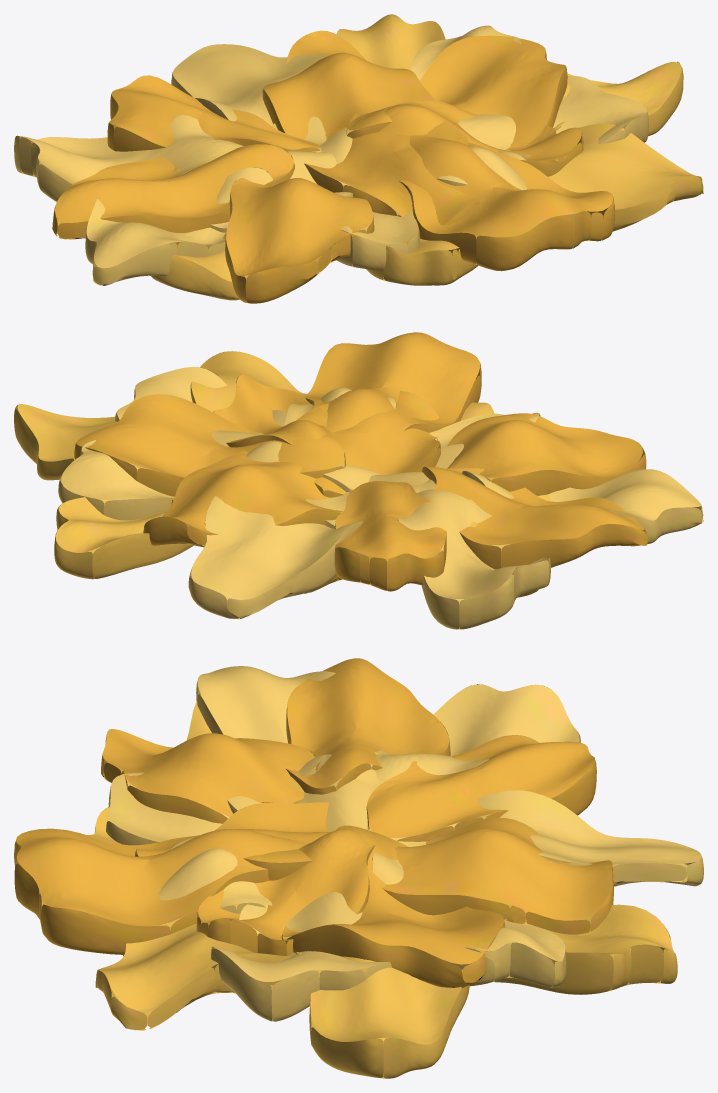
Rendered from savory-eggs-scrambled.glb.
The picture shows the model from 3 angles, top to bottom: view 1: azimuth 30°, elevation 25°; view 2: azimuth 150°, elevation 25°; view 3: azimuth 270°, elevation 25°; orthographic projection. The views are drawn at different scales.
Visible parts, largest first — view 1: savory-eggs-scrambled; view 2: savory-eggs-scrambled; view 3: savory-eggs-scrambled.
Boxes of the visible parts, x1=… form: savory-eggs-scrambled: x1=14, y1=14, x2=703, y2=303; savory-eggs-scrambled: x1=14, y1=332, x2=703, y2=629; savory-eggs-scrambled: x1=14, y1=658, x2=703, y2=1078.
Bounding box in the file's own units: 1.65 × 0.22 × 1.3.
Materials: 1 (1 with a texture image).
